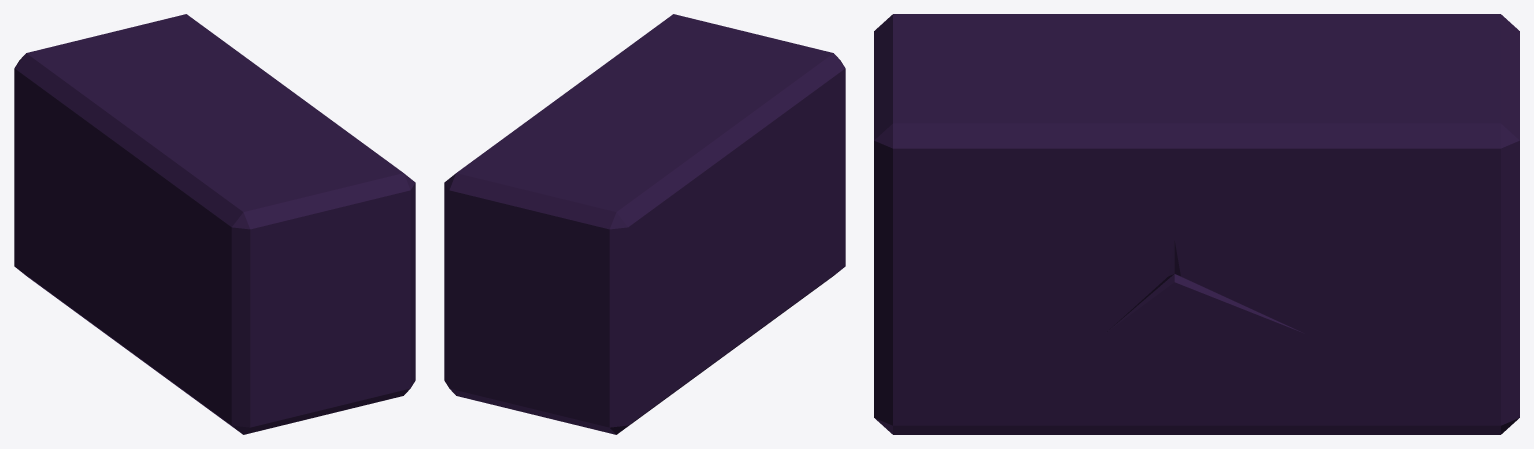
Rendered from brick1.glb.
The picture shows the model from 3 angles, left to right: view 1: azimuth 30°, elevation 25°; view 2: azimuth 150°, elevation 25°; view 3: azimuth 270°, elevation 25°; orthographic projection. The views are drawn at different scales.
Parts seen in each view (by area): view 1: BrickCrack1; view 2: BrickCrack1; view 3: BrickCrack1.
Boxes of the visible parts, x1=… form: BrickCrack1: x1=14, y1=14, x2=415, y2=434; BrickCrack1: x1=444, y1=14, x2=845, y2=434; BrickCrack1: x1=874, y1=14, x2=1519, y2=434.
Bounding box in the file's own units: 1.73 × 2 × 3.76.
